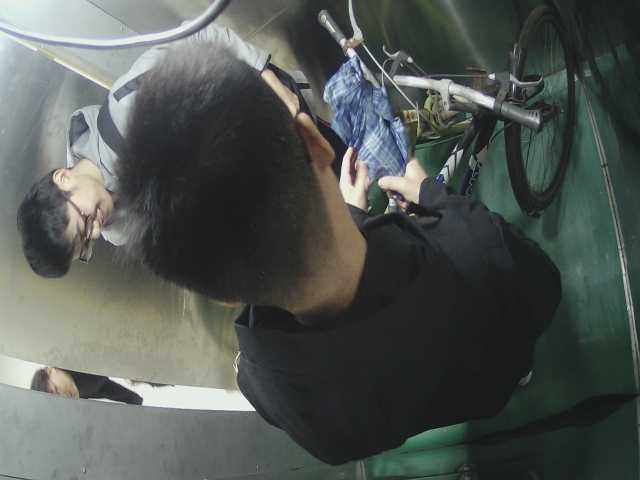bicycle: (294, 6, 599, 216)
person: (145, 52, 548, 458), (8, 69, 148, 289)
